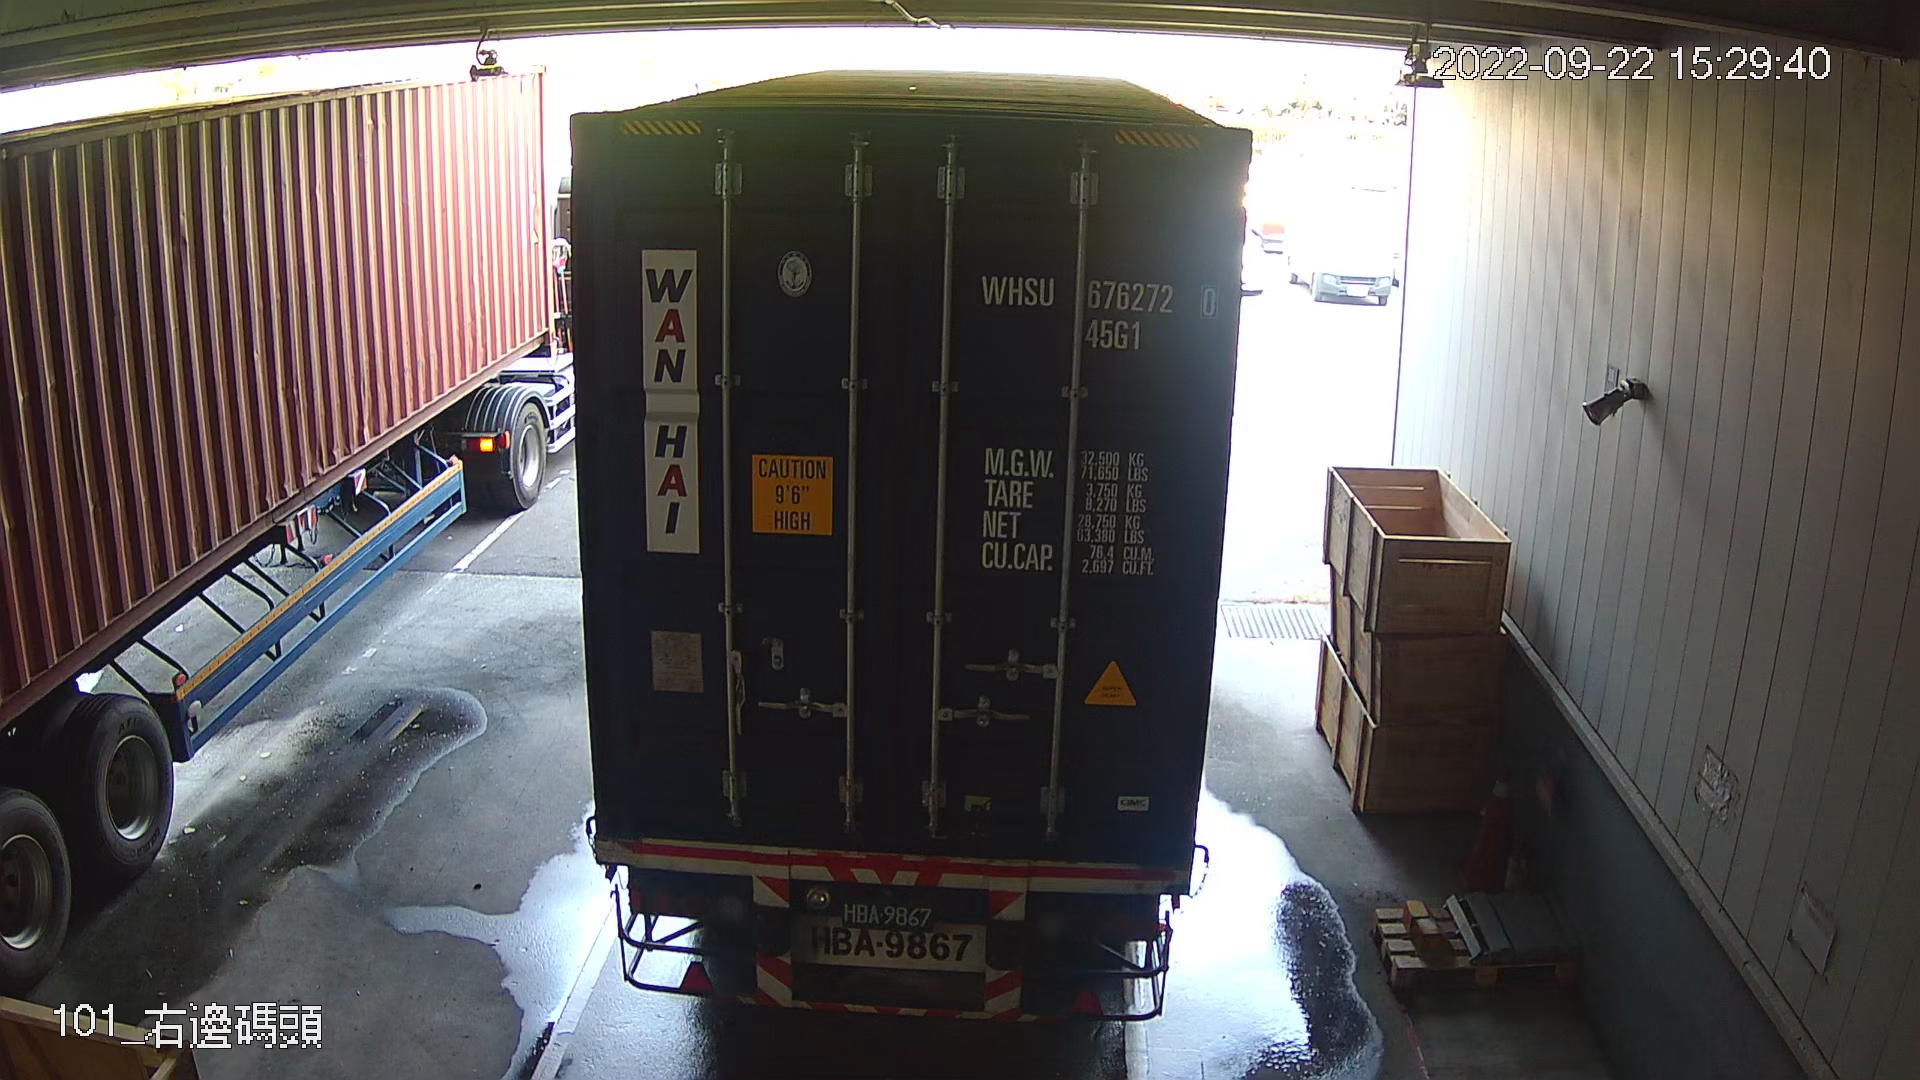container: (967, 262, 1228, 357)
